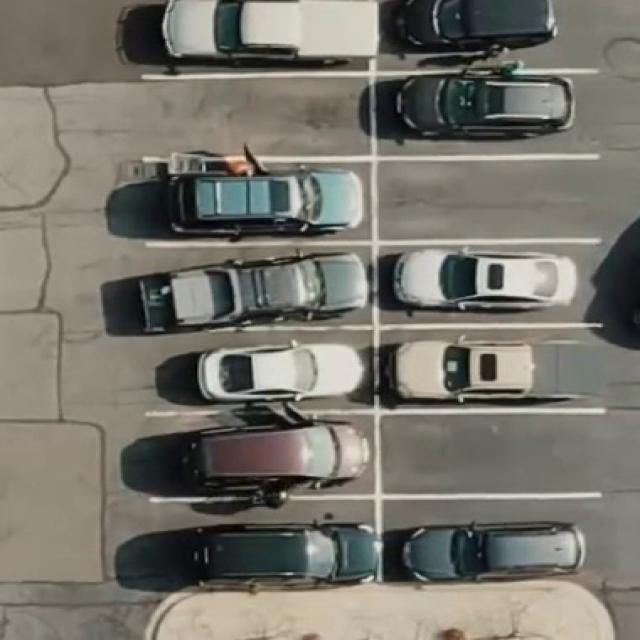empty: (133, 73, 372, 156), (382, 412, 610, 496), (382, 157, 605, 239)
notEmpty: (140, 159, 370, 242), (142, 244, 379, 324), (380, 328, 610, 408), (154, 414, 378, 496), (379, 244, 605, 324), (156, 327, 376, 409), (152, 500, 379, 578), (383, 498, 605, 576), (133, 0, 369, 72), (379, 78, 598, 154), (377, 0, 599, 67)
